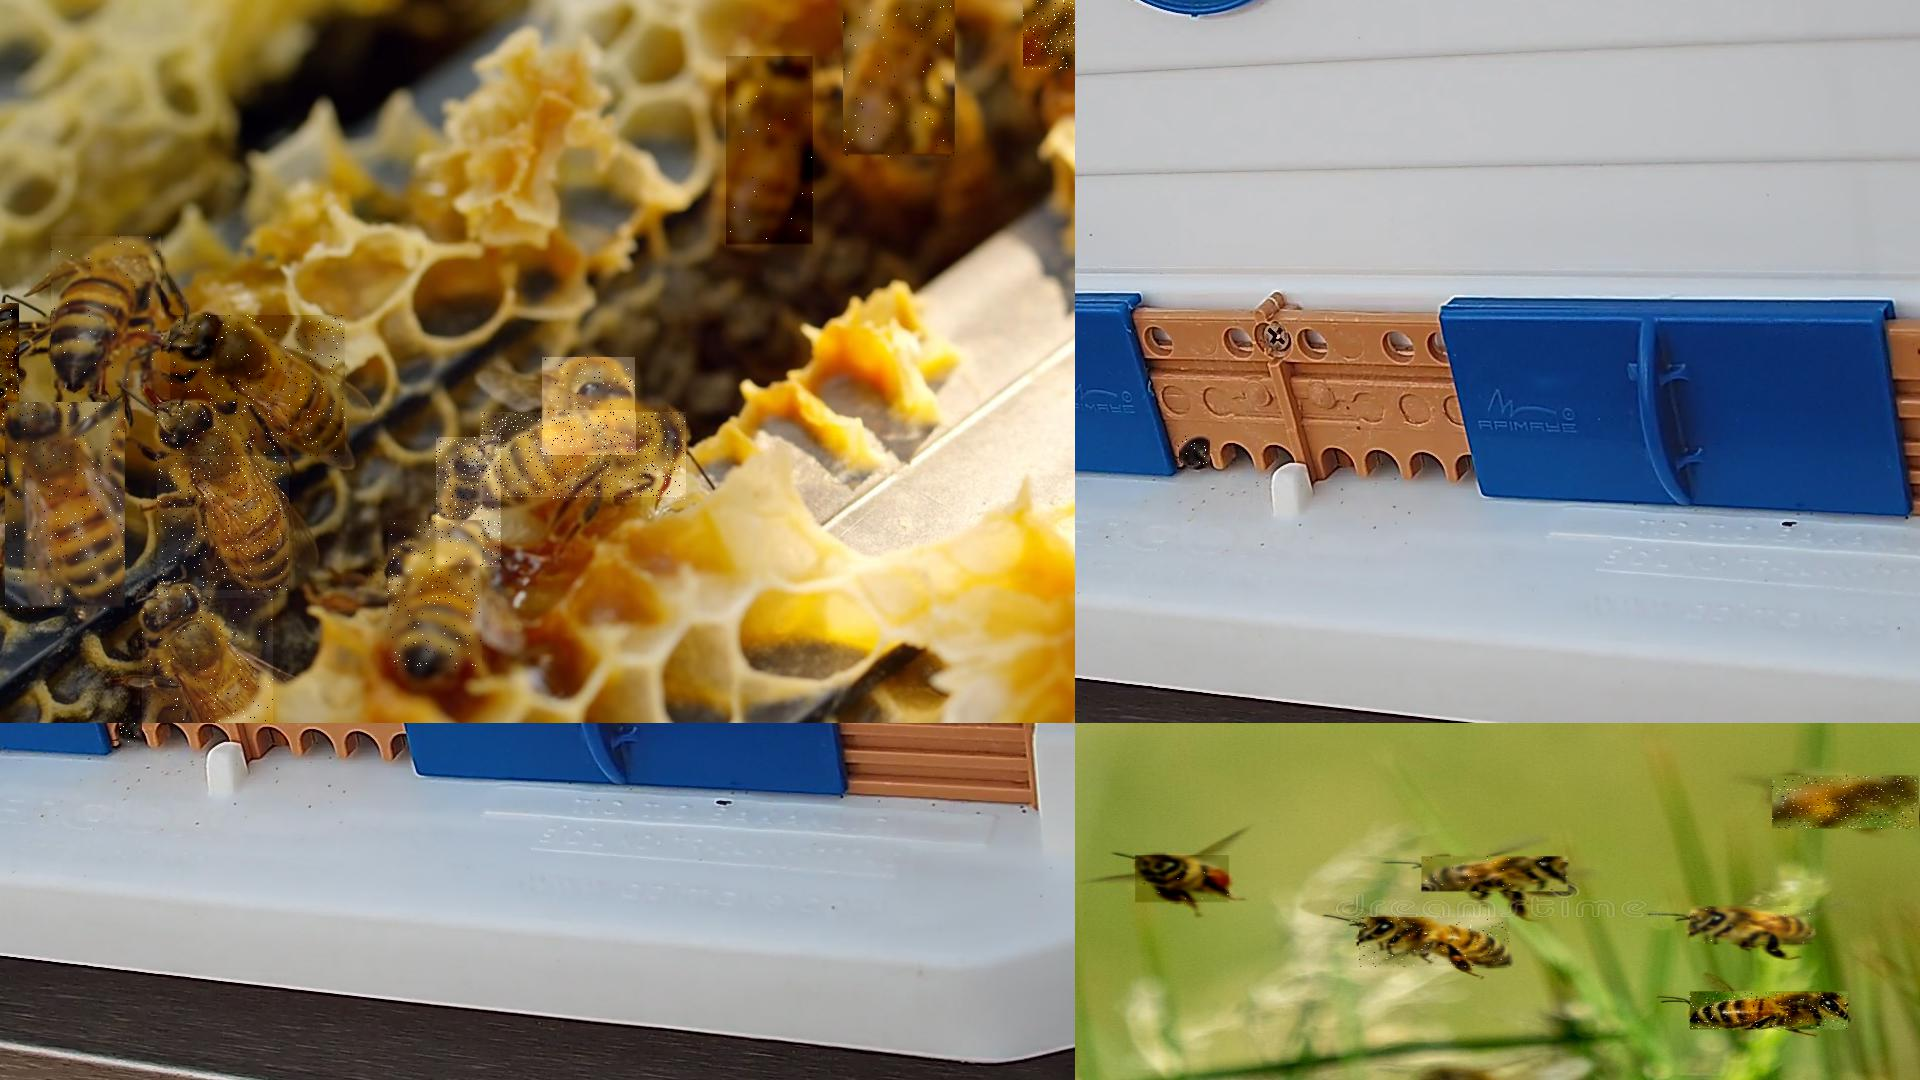bee: (157, 402, 290, 597), (5, 402, 127, 611), (170, 315, 345, 459), (843, 0, 957, 160), (480, 413, 687, 501), (142, 591, 276, 723), (51, 237, 162, 388), (727, 57, 814, 248), (388, 521, 483, 671), (542, 357, 636, 458), (436, 436, 502, 568), (1360, 918, 1510, 968), (1691, 992, 1850, 1030), (1423, 857, 1573, 894), (1691, 906, 1817, 944), (0, 303, 21, 497), (1023, 0, 1073, 71), (1179, 435, 1211, 465), (119, 723, 144, 746)
pollenbee: (1772, 775, 1919, 829), (1135, 856, 1230, 905)
